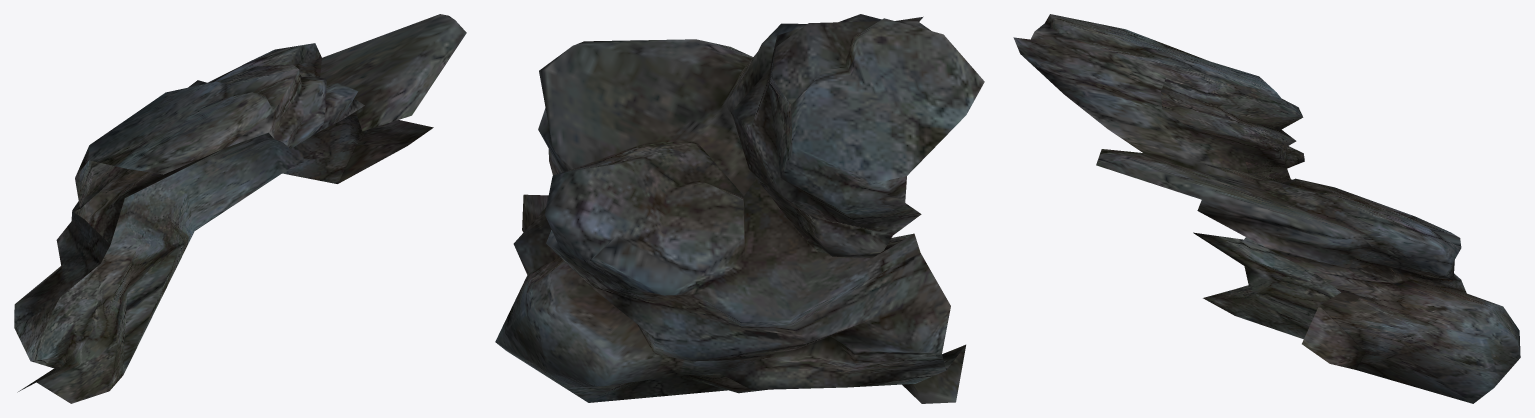
Rendered from S_Rock_Yellow034_H18.FBX.
3 renders of one model, left to right at view 1: azimuth 30°, elevation 25°; view 2: azimuth 150°, elevation 25°; view 3: azimuth 270°, elevation 25°, orthographic. The views are drawn at different scales.
Visible parts, largest first — view 1: S_Rock_Yellow034_H18; view 2: S_Rock_Yellow034_H18; view 3: S_Rock_Yellow034_H18.
Boxes of the visible parts, x1=… form: S_Rock_Yellow034_H18: x1=14, y1=14, x2=466, y2=403; S_Rock_Yellow034_H18: x1=495, y1=14, x2=984, y2=403; S_Rock_Yellow034_H18: x1=1013, y1=14, x2=1520, y2=403.
Size of the model in its own units: 1245 by 1219 by 869.
Materials: 1 (1 with a texture image).
